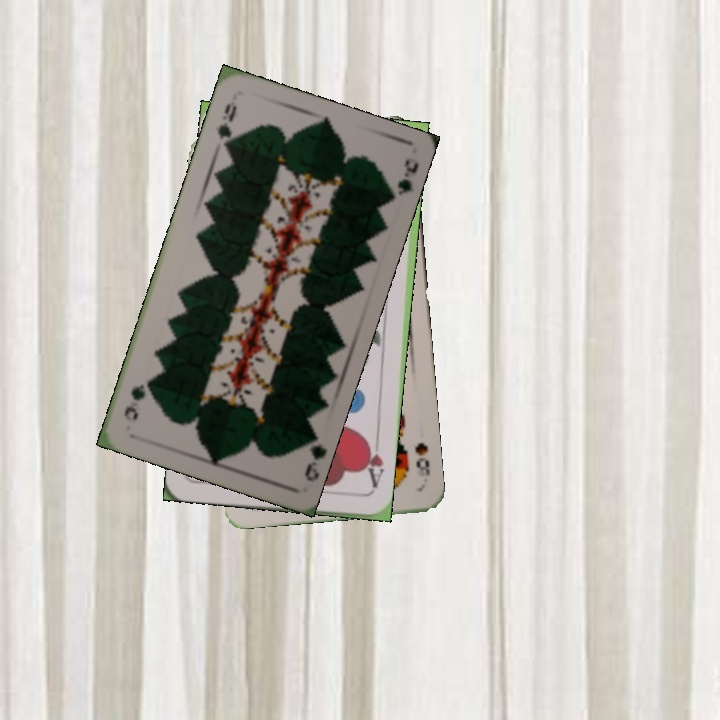G9: (300, 427, 327, 485), (213, 96, 239, 155)
HA: (360, 434, 387, 493)
S8: (410, 438, 433, 479)
